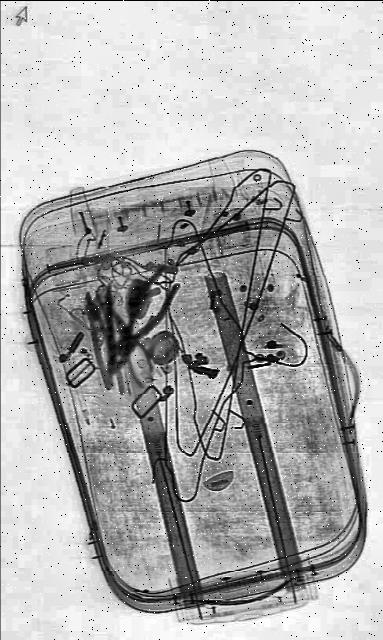Pliers: (99, 254, 183, 391), (105, 298, 159, 392), (79, 284, 123, 392)
